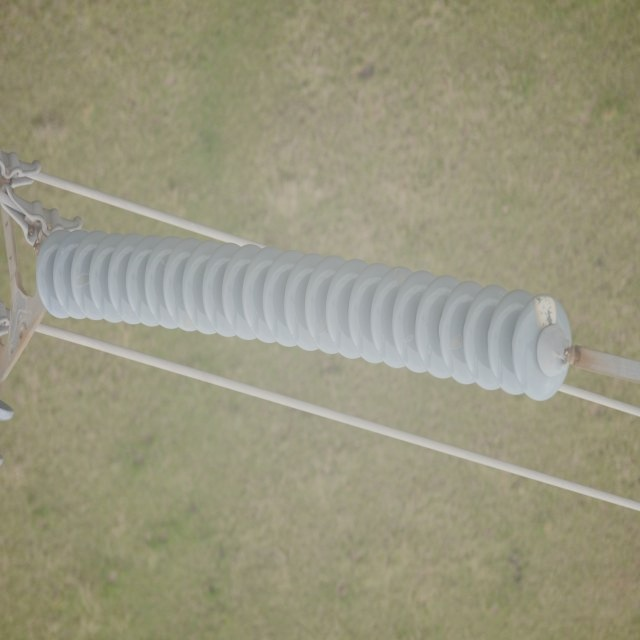insulator: (37, 226, 573, 399)
